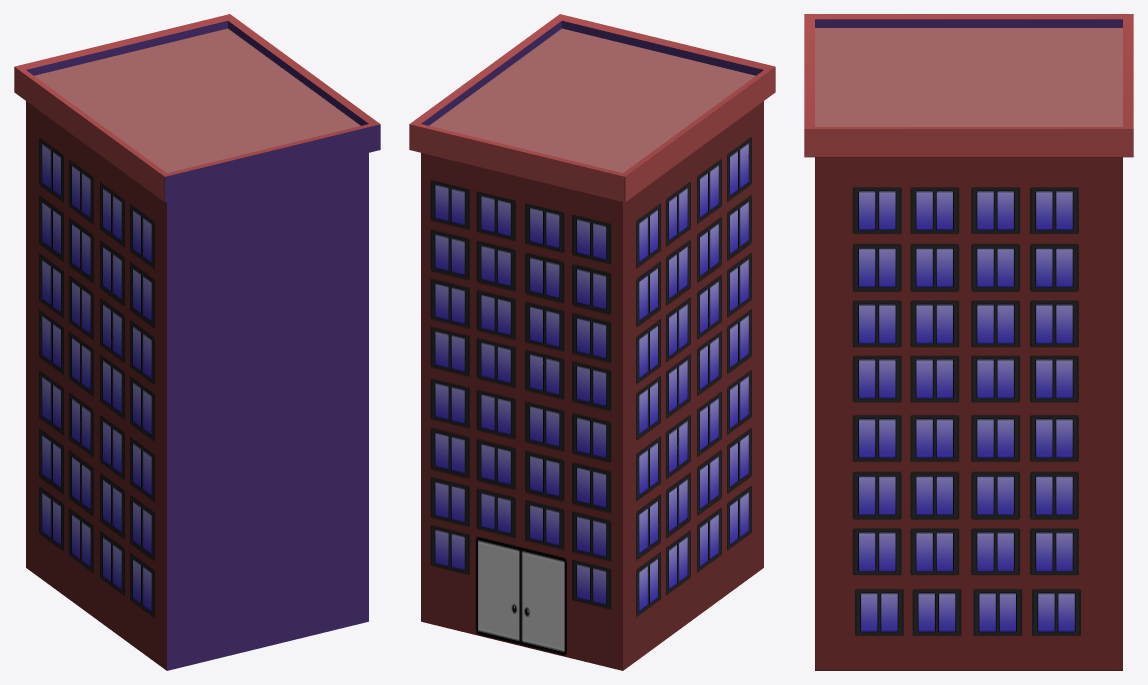
The model's file is Building 2.fbx.
3 views of the same model, side by side, from view 1: azimuth 30°, elevation 25°; view 2: azimuth 150°, elevation 25°; view 3: azimuth 270°, elevation 25° (orthographic). The views are drawn at different scales.
Visible parts, largest first — view 1: Building_5; view 2: Building_5; view 3: Building_5.
Boxes of the visible parts, x1,y1,x2,y2 form: Building_5: (14,14,380,670); Building_5: (409,14,775,670); Building_5: (804,14,1133,670).
Bounding box in the file's own units: 738 × 1632 × 892.
1 material, 1 textured.
